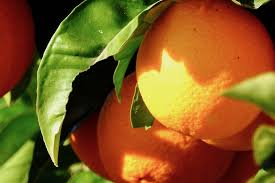orange: (136, 2, 273, 137), (91, 70, 236, 183)
